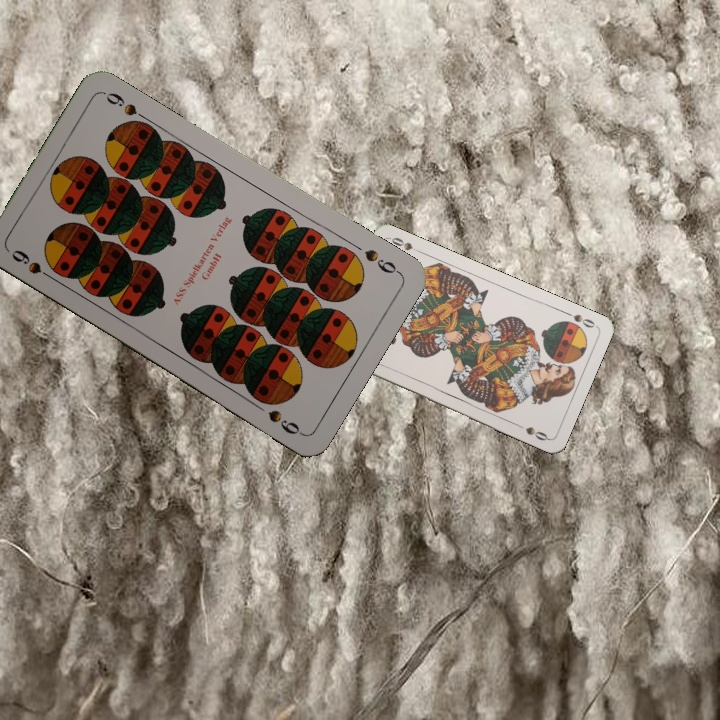S9: (7, 245, 59, 284), (360, 244, 403, 277)
SO: (560, 307, 599, 330)
